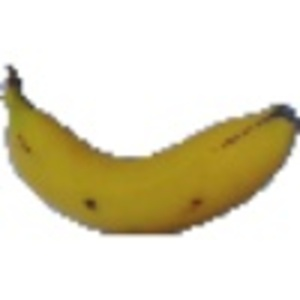banana: (1, 63, 295, 232)
